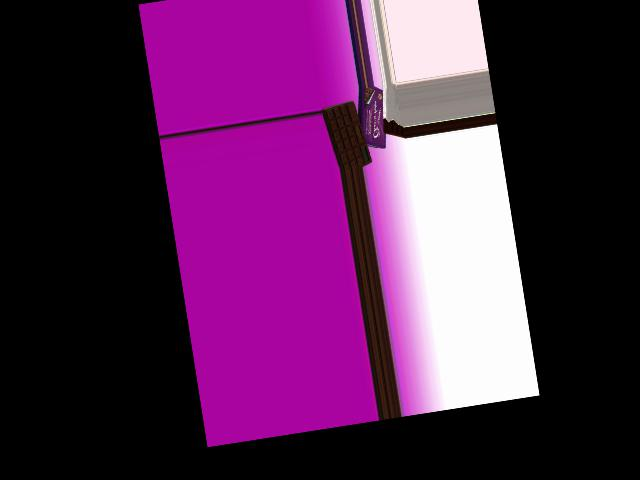chocolate: (320, 100, 373, 169)
